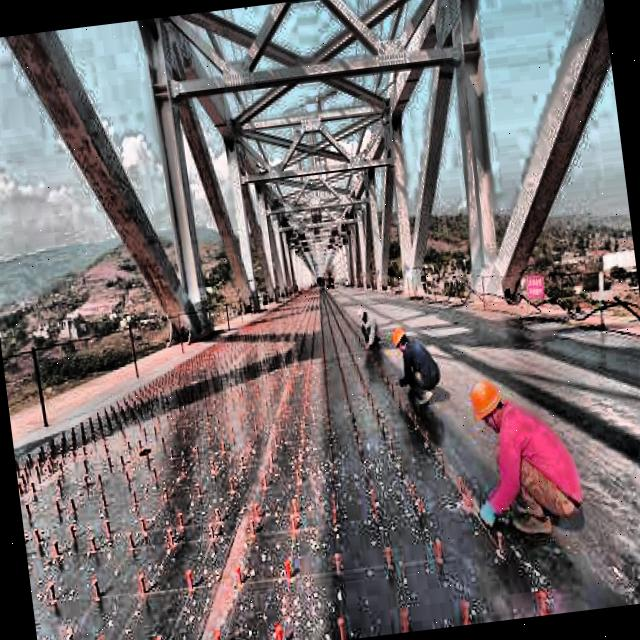helmet: (465, 374, 510, 436), (391, 324, 412, 353)
